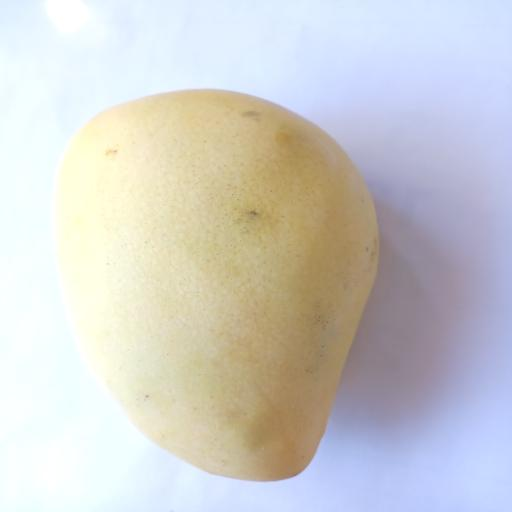mango-ripe: (41, 76, 403, 492)
